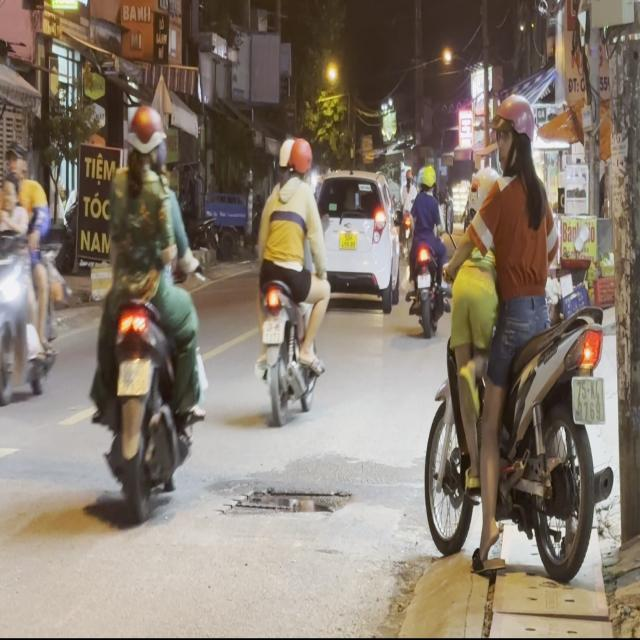helmet: (493, 93, 539, 177), (122, 103, 165, 173), (288, 136, 311, 180), (276, 136, 294, 180)
licenseplate: (421, 86, 615, 591), (85, 99, 208, 521), (251, 133, 329, 421), (0, 138, 66, 410)
motorcyclist: (2, 141, 28, 184), (0, 175, 20, 211)
nohelmet: (572, 377, 606, 421), (116, 359, 150, 394), (262, 319, 284, 343)
